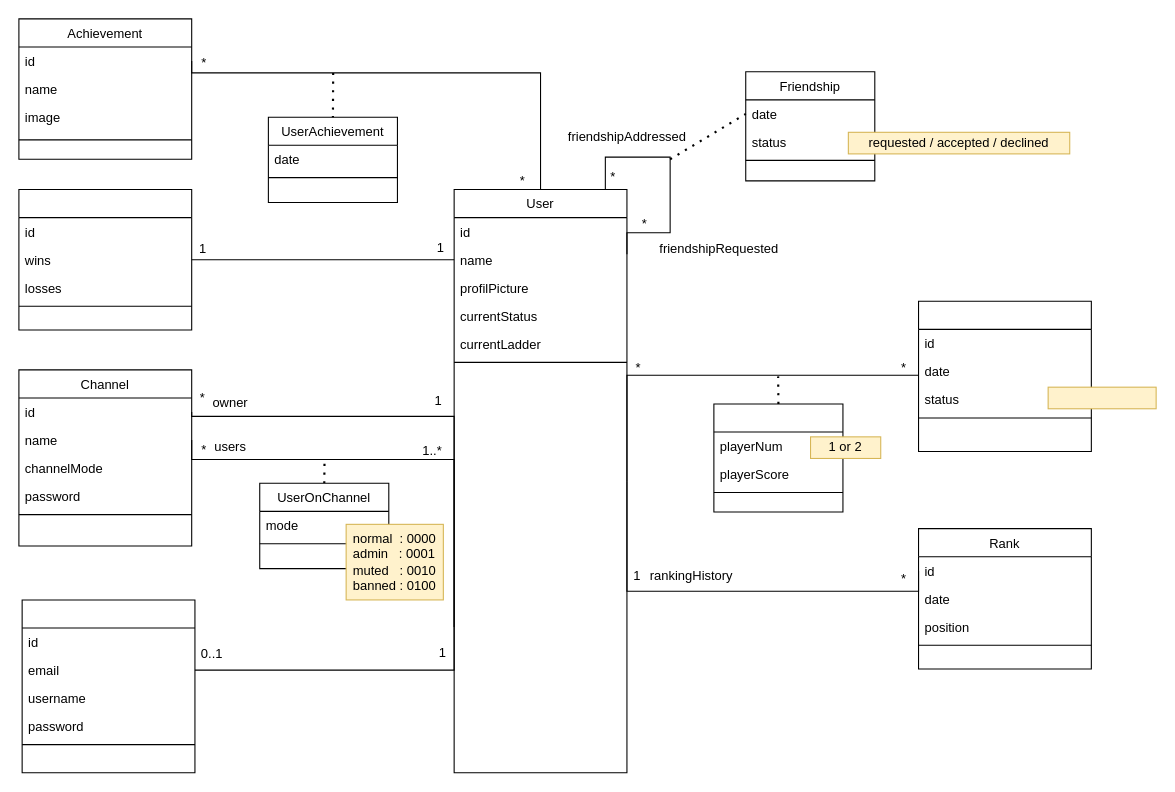
The diagram is 1175 pixels wide and 792 high, and some of its shapes have lost their labels. Here are the shapes that lost their labels. From the top down, the box of each, then its label:
(18, 188, 192, 330): Stats
(917, 300, 1091, 451): Match
(1047, 386, 1156, 409): active / inactive
(713, 403, 843, 512): PlayerOnMatch
(21, 599, 195, 773): Credentials
